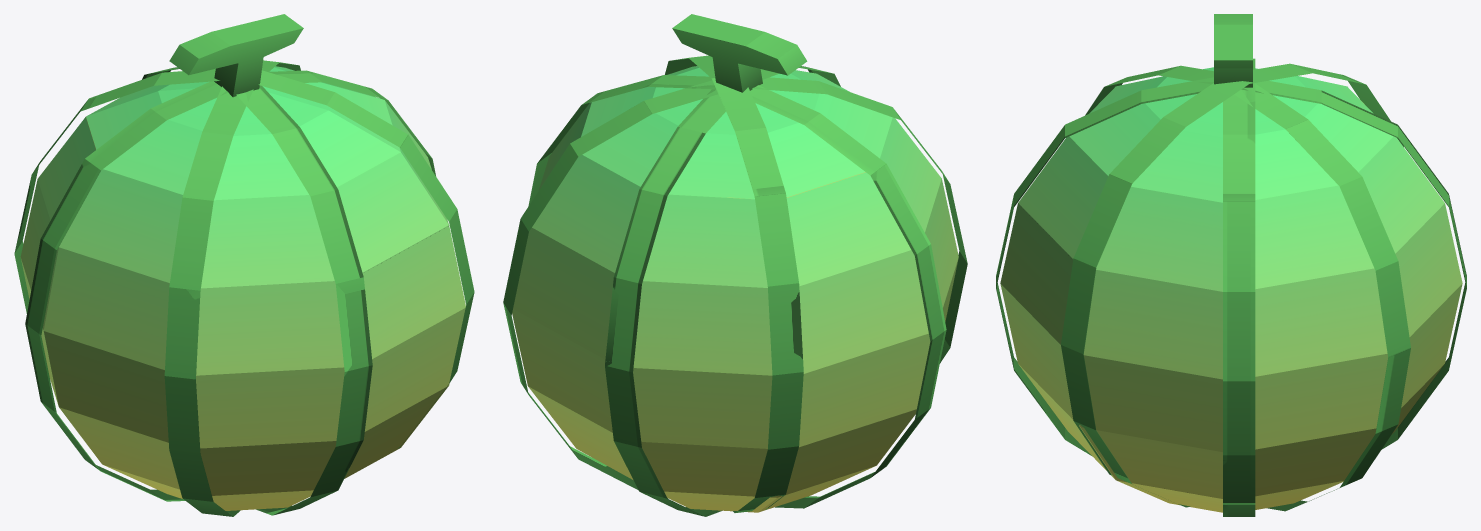
Rendered from Melon.glb.
3 renders of one model, left to right at view 1: azimuth 30°, elevation 25°; view 2: azimuth 150°, elevation 25°; view 3: azimuth 270°, elevation 25°, orthographic.
Visible parts, largest first — view 1: Sphere, Sphere.004, Sphere.001, Sphere.002, Sphere.003, Cube; view 2: Sphere, Sphere.003, Sphere.001, Sphere.002, Sphere.004, Cube; view 3: Sphere, Sphere.002, Sphere.003, Sphere.004, Sphere.001, Cube.
Part boxes in pixels (x1,y1,x2,y2): Sphere: (20,66,465,510); Sphere.004: (164,60,300,516); Sphere.001: (142,67,372,515); Sphere.002: (25,70,435,501); Sphere.003: (14,68,474,448); Cube: (169,14,303,97); Sphere: (512,66,958,512); Sphere.003: (665,55,803,512); Sphere.001: (605,66,840,516); Sphere.002: (528,75,946,508); Sphere.004: (503,77,967,498); Cube: (672,14,807,92); Sphere: (1000,67,1462,512); Sphere.002: (1223,58,1255,516); Sphere.003: (1061,63,1403,507); Sphere.004: (1085,65,1410,511); Sphere.001: (996,77,1466,456); Cube: (1214,14,1252,87).
Bounding box in the file's own units: 3.19 × 3.45 × 3.19.
Materials: 2 (2 with a texture image).
